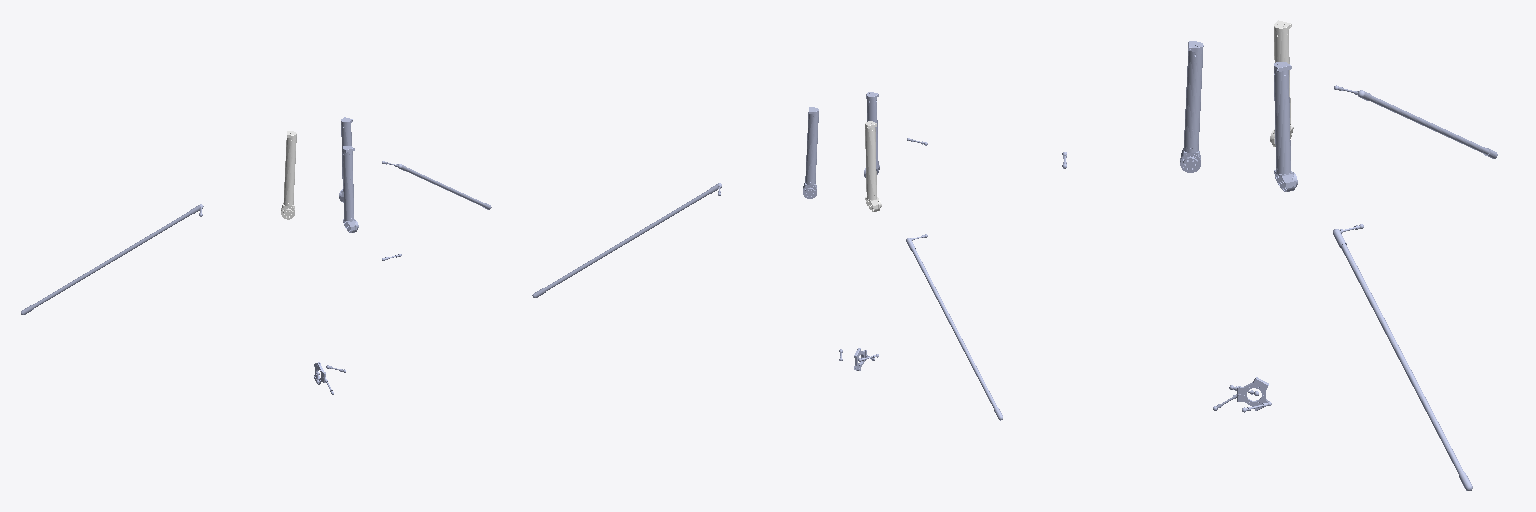
robot.urdf — deltax_descriptions:
<?xml version="1.0" encoding="utf-8"?>
<!-- This URDF was automatically created by SolidWorks to URDF Exporter! Originally created by Stephen Brawner ([email redacted]) 
     Commit Version: 1.6.0-1-g15f4949  Build Version: 1.6.7594.29634
     For more information. please see http://wiki.ros.org/sw_urdf_exporter -->
<robot name="deltax_descriptions">

<!-- Serial Chain -->

  <link name="base_link">

    <inertial>
      <origin xyz="0 0 0" rpy="0 0 0" />
      <mass value="4.116" />
      <inertia ixx="0.019013" ixy="-3.1198E-06" ixz="6.0397E-07" iyy="0.018987" iyz="-1.6736E-06" izz="0.033013" />
    </inertial>

    <visual>
      <origin xyz="0 0 0" rpy="0 0 0" />
      <geometry>
        <mesh filename="package://deltax_descriptions/meshes/base_link.STL" />
      </geometry>
      <material name="LightGrey">
        <color rgba="0.79216 0.81961 0.93333 1" />
      </material>
    </visual>

    <collision>
      <origin xyz="0 0 0" rpy="0 0 0" />
      <geometry>
        <mesh filename="package://deltax_descriptions/meshes/base_link.STL" />
      </geometry>
    </collision>

  </link>

  <link name="rf1_Link">

    <inertial>
      <origin xyz="-0.000180025755014773 -0.095698641603588 -0.00334460441190246" rpy="0 0 0" />
      <mass value="0.105839941889362" />
      <inertia ixx="0.000251568598676522" ixy="-1.3190478298987E-07" ixz="-1.76570125670921E-11" iyy="2.49430023061273E-05" iyz="9.97256647574034E-07" izz="0.000257239396139277" />
    </inertial>

    <visual>
      <origin xyz="0 0 0" rpy="0 0 0" />
      <geometry>
        <mesh filename="package://deltax_descriptions/meshes/rf1_Link.STL" />
      </geometry>
      <material name="LightGrey">
        <color rgba="0.792156862745098 0.819607843137255 0.933333333333333 1" />
      </material>
    </visual>

    <collision>
      <origin xyz="0 0 0" rpy="0 0 0" />
      <geometry>
        <mesh filename="package://deltax_descriptions/meshes/rf1_Link.STL" />
      </geometry>
    </collision>

  </link>

  <joint name="theta1" type="continuous">
    <origin xyz="0 -0.14772 -0.1908" rpy="-1.5708 -1.5279 1.5708" />
    <parent link="base_link" />
    <child link="rf1_Link" />
    <axis xyz="0 0 -1" />
  </joint>

  <link name="ball_top1_Link">
    <inertial>
      <origin xyz="0 0 4.96483227560846E-15" rpy="0 0 0" />
      <mass value="0.00403450389151663" />
      <inertia ixx="5.68434704387569E-07" ixy="0" ixz="-6.99509969560986E-23" iyy="5.68434704387569E-07" iyz="1.26866599360354E-22" izz="4.2954616111995E-08" />
    </inertial>

    <visual>
      <origin xyz="0 0 0" rpy="0 0 0" />
      <geometry>
        <mesh filename="package://deltax_descriptions/meshes/ball_top1_Link.STL" />
      </geometry>
      <material name="LightGrey">
        <color rgba="0.792156862745098 0.819607843137255 0.933333333333333 1" />
      </material>
    </visual>

    <collision>
      <origin xyz="0 0 0" rpy="0 0 0" />
      <geometry>
        <mesh filename="package://deltax_descriptions/meshes/ball_top1_Link.STL" />
      </geometry>
    </collision>

  </link>

  <joint name="ball_top1" type="continuous">
    <origin xyz="-0.0125000000000005 -0.291500000000001 0" rpy="0 0 2.51628974348087" />
    <parent link="rf1_Link" />
    <child link="ball_top1_Link" />
    <axis xyz="0 0 1" />
  </joint>

  <link name="re1_Link">

    <inertial>
      <origin xyz="-5.55111512312578E-16 -6.24500451351651E-17 -0.368" rpy="0 0 0" />
      <mass value="0.0573157505737431" />
      <inertia ixx="0.00168724685333462" ixy="-1.95026420120651E-23" ixz="-9.82558218814988E-19" iyy="0.00168724685333461" iyz="-2.73831028766095E-19" izz="2.40911741756134E-06" />
    </inertial>

    <visual>
      <origin xyz="0 0 0" rpy="0 0 0" />
      <geometry>
        <mesh filename="package://deltax_descriptions/meshes/re1_Link.STL" />
      </geometry>
      <material name="LightGrey">
        <color rgba="0.792156862745098 0.819607843137255 0.933333333333333 1" />
      </material>
    </visual>

    <collision>
      <origin xyz="0 0 0" rpy="0 0 0" />
      <geometry>
        <mesh filename="package://deltax_descriptions/meshes/re1_Link.STL" />
      </geometry>
    </collision>

  </link>

  <joint name="re1" type="continuous">
    <origin xyz="0 0 0.0333733971724094" rpy="-1.57079632679489 0 1.5707963267949" />
    <parent link="ball_top1_Link" />
    <child link="re1_Link" />
    <axis xyz="1 0 0" />
  </joint>

  <link name="ball_bot1_Link">
    <inertial>
      <origin xyz="0 -3.88578058618805E-16 -0.0333733971724045" rpy="0 0 0" />
      <mass value="0.00403450389151663" />
      <inertia ixx="5.68434704387569E-07" ixy="0" ixz="-1.50369652192614E-22" iyy="5.68434704387569E-07" iyz="-5.61340337985591E-23" izz="4.2954616111995E-08" />
    </inertial>

    <visual>
      <origin xyz="0 0 0" rpy="0 0 0" />
      <geometry>
        <mesh filename="package://deltax_descriptions/meshes/ball_bot1_Link.STL" />
      </geometry>
      <material name="LightGrey">
        <color rgba="0.792156862745098 0.819607843137255 0.933333333333333 1" />
      </material>
    </visual>

    <collision>
      <origin xyz="0 0 0" rpy="0 0 0" />
      <geometry>
        <mesh filename="package://deltax_descriptions/meshes/ball_bot1_Link.STL" />
      </geometry>
    </collision>

  </link>
  
  <joint name="re_ball" type="continuous">
    <origin xyz="0 0 -0.736" rpy="1.57079632679489 1.5707963267949 0" />
    <parent link="re1_Link" />
    <child link="ball_bot1_Link" />
    <axis xyz="0 1 0" />
  </joint>

  <link name="ball_moving_Link">

    <inertial>
      <origin xyz="0.0333733971724034 0.0346410161513765 -0.000395409279406289" rpy="0 0 0" />
      <mass value="0.024578598394115" />
      <inertia ixx="1.11301111565817E-05" ixy="-1.0553815217793E-21" ixz="2.98720633800108E-23" iyy="1.1130111156582E-05" iyz="-2.37814426108995E-21" izz="2.18824601689992E-05" />
    </inertial>

    <visual>
      <origin xyz="0 0 0" rpy="0 0 0" />
      <geometry>
        <mesh filename="package://deltax_descriptions/meshes/ball_moving_Link.STL" />
      </geometry>
      <material name="LightGrey">
        <color rgba="0.792156862745098 0.819607843137255 0.933333333333333 1" />
      </material>
    </visual>

    <collision>
      <origin xyz="0 0 0" rpy="0 0 0" />
      <geometry>
        <mesh filename="package://deltax_descriptions/meshes/ball_moving_Link.STL" />
      </geometry>
    </collision>

  </link>

  <joint name="ball_moving" type="continuous">
    <origin xyz="0 0 0" rpy="2.5591 1.5708 0" />
    <parent link="ball_bot1_Link" />
    <child link="ball_moving_Link" />
    <axis xyz="-1 0 0" />
  </joint>

<!-- New Links/Joints -->

  <link name="3_dof_frame">
  </link>

  <joint name="3_dof_frame_joint" type="fixed">
    <origin xyz="0.0333733971724094 0.034641 0" rpy="0 0 0" />
    <parent link="ball_moving_Link" />
    <child link="3_dof_frame" />
  </joint>

<!-- Fixed Links on Moving Platform -->

  <link name="ball_bot2_Link">

    <inertial>
      <origin xyz="-1.33226762955019E-15 1.0547118733939E-15 -0.0133133014137978" rpy="0 0 0" />
      <mass value="0.00403450389151663" />
      <inertia ixx="5.68434704387569E-07" ixy="5.29395592033938E-23" ixz="-1.75090631434492E-22" iyy="5.68434704387569E-07" iyz="-7.85728408212561E-23" izz="4.2954616111995E-08" />
    </inertial>

    <visual>
      <origin xyz="0 0 0" rpy="0 0 0" />
      <geometry>
        <mesh filename="package://deltax_descriptions/meshes/ball_bot2_Link.STL" />
      </geometry>
      <material name="LightGrey">
        <color rgba="0.792156862745098 0.819607843137255 0.933333333333333 1" />
      </material>
    </visual>

    <collision>
      <origin xyz="0 0 0" rpy="0 0 0" />
      <geometry>
        <mesh filename="package://deltax_descriptions/meshes/ball_bot2_Link.STL" />
      </geometry>
    </collision>

  </link>

  <joint name="ball_bot2" type="fixed">
    <origin xyz="0.07003 0.040432 0" rpy="-1.5708 0.98835 -2.618" />
    <parent link="ball_moving_Link" />
    <child link="ball_bot2_Link" />
    <axis xyz="0 0 0" />
  </joint>

  <link name="ball_bot3_Link">

    <inertial>
      <origin xyz="-4.44089209850063E-16 1.4432899320127E-15 0.0465710472243423" rpy="0 0 0" />
      <mass value="0.00403450389151663" />
      <inertia ixx="5.68434704387569E-07" ixy="-2.64697796016969E-23" ixz="3.99022495151383E-22" iyy="5.68434704387569E-07" iyz="-1.1213966056023E-22" izz="4.2954616111995E-08" />
    </inertial>

    <visual>
      <origin xyz="0 0 0" rpy="0 0 0" />
      <geometry>
        <mesh filename="package://deltax_descriptions/meshes/ball_bot3_Link.STL" />
      </geometry>
      <material name="LightGrey">
        <color rgba="0.792156862745098 0.819607843137255 0.933333333333333 1" />
      </material>
    </visual>

    <collision>
      <origin xyz="0 0 0" rpy="0 0 0" />
      <geometry>
        <mesh filename="package://deltax_descriptions/meshes/ball_bot3_Link.STL" />
      </geometry>
    </collision>

  </link>

  <joint name="ball_bot3" type="fixed">
    <origin xyz="-0.019912 0.01163 0" rpy="1.5708 -0.98835 2.618" />
    <parent link="ball_moving_Link" />
    <child link="ball_bot3_Link" />
    <axis xyz="0 0 0" />
  </joint>

<!-- Driven Parrallel Links -->

  <link name="re2_Link">

    <inertial>
      <origin xyz="-3.88578058618805E-16 -9.71445146547012E-17 -0.368" rpy="0 0 0" />
      <mass value="0.057315750573743" />
      <inertia ixx="0.00168724685333462" ixy="-8.51517412309534E-23" ixz="-1.17981101640683E-18" iyy="0.00168724685333462" iyz="-3.03320016728441E-19" izz="2.4091174175618E-06" />
    </inertial>

    <visual>
      <origin xyz="0 0 0" rpy="0 0 0" />
      <geometry>
        <mesh filename="package://deltax_descriptions/meshes/re2_Link.STL" />
      </geometry>
      <material name="LightGrey">
        <color rgba="0.792156862745098 0.819607843137255 0.933333333333333 1" />
      </material>
    </visual>

    <collision>
      <origin xyz="0 0 0" rpy="0 0 0" />
      <geometry>
        <mesh filename="package://deltax_descriptions/meshes/re2_Link.STL" />
      </geometry>
    </collision>

  </link>

  <joint name="re2" type="continuous">
    <origin xyz="0 0 -0.0333733971723995" rpy="-1.57079632679489 0 1.5707963267949" />
    <parent link="ball_top1_Link" />
    <child link="re2_Link" />
    <axis xyz="1 0 0" />
  </joint>

  <link name="rf2_Link">

    <inertial>
      <origin xyz="-0.000180009871745185 -0.105698167078432 -0.00334457386232478" rpy="0 0 0" />
      <mass value="0.105840527396936" />
      <inertia ixx="0.000251568641704869" ixy="-1.31915124400507E-07" ixz="-2.48118486774048E-11" iyy="2.49431921936754E-05" iyz="9.97258259821399E-07" izz="0.000257239597683217" />
    </inertial>

    <visual>
      <origin xyz="0 0 0" rpy="0 0 0" />
      <geometry>
        <mesh filename="package://deltax_descriptions/meshes/rf2_Link.STL" />
      </geometry>
      <material name="LightGrey">
        <color rgba="0.792156862745098 0.819607843137255 0.933333333333333 1" />
      </material>
    </visual>

    <collision>
      <origin xyz="0 0 0" rpy="0 0 0" />
      <geometry>
        <mesh filename="package://deltax_descriptions/meshes/rf2_Link.STL" />
      </geometry>
    </collision>

  </link>

  <joint name="theta2" type="continuous">
    <origin xyz="0.11928 0.068867 -0.19123" rpy="-1.5708 -1.5279 -2.618" />
    <parent link="base_link" />
    <child link="rf2_Link" />
    <axis xyz="0 0 -1" />
  </joint>

  <link name="ball_top2_Link">

    <inertial>
      <origin xyz="0 5.55111512312578E-17 -2.22044604925031E-16" rpy="0 0 0" />
      <mass value="0.00403450389151663" />
      <inertia ixx="5.68434704387569E-07" ixy="-5.29395592033938E-23" ixz="2.25005090297828E-22" iyy="5.68434704387569E-07" iyz="4.31443928495655E-22" izz="4.2954616111995E-08" />
    </inertial>

    <visual>
      <origin xyz="0 0 0" rpy="0 0 0" />
      <geometry>
        <mesh filename="package://deltax_descriptions/meshes/ball_top2_Link.STL" />
      </geometry>
      <material name="LightGrey">
        <color rgba="0.792156862745098 0.819607843137255 0.933333333333333 1" />
      </material>
    </visual>

    <collision>
      <origin xyz="0 0 0" rpy="0 0 0" />
      <geometry>
        <mesh filename="package://deltax_descriptions/meshes/ball_top2_Link.STL" />
      </geometry>
    </collision>

  </link>

  <joint name="ball_top2" type="continuous">
    <origin xyz="-0.012500000000001 -0.3015 0" rpy="0 0 2.51628974348086" />
    <parent link="rf2_Link" />
    <child link="ball_top2_Link" />
    <axis xyz="0 0 1" />
  </joint>

  <link name="re3_Link">

    <inertial>
      <origin xyz="6.66133814775094E-16 -1.13797860024079E-15 -0.368000000000001" rpy="0 0 0" />
      <mass value="0.057315750573743" />
      <inertia ixx="0.00168724685333462" ixy="6.92705888295819E-20" ixz="2.80389081364855E-18" iyy="0.00168724685333462" iyz="-5.12751653114693E-18" izz="2.40911741756149E-06" />
    </inertial>

    <visual>
      <origin xyz="0 0 0" rpy="0 0 0" />
      <geometry>
        <mesh filename="package://deltax_descriptions/meshes/re3_Link.STL" />
      </geometry>
      <material name="LightGrey">
        <color rgba="0.792156862745098 0.819607843137255 0.933333333333333 1" />
      </material>
    </visual>

    <collision>
      <origin xyz="0 0 0" rpy="0 0 0" />
      <geometry>
        <mesh filename="package://deltax_descriptions/meshes/re3_Link.STL" />
      </geometry>
    </collision>

  </link>

  <joint name="re3" type="continuous">
    <origin xyz="0 0 0.0333733971724042" rpy="-1.5707963267949 0 1.5707963267949" />
    <parent link="ball_top2_Link" />
    <child link="re3_Link" />
    <axis xyz="1 0 0" />
  </joint>

  <link name="re4_Link">

    <inertial>
      <origin xyz="6.66133814775094E-16 -2.91433543964104E-16 -0.368" rpy="0 0 0" />
      <mass value="0.057315750573743" />
      <inertia ixx="0.00168724685333461" ixy="-3.79244537653438E-20" ixz="1.9421406689357E-18" iyy="0.00168724685333461" iyz="-7.66827937291266E-19" izz="2.4091174175619E-06" />
    </inertial>

    <visual>
      <origin xyz="0 0 0" rpy="0 0 0" />
      <geometry>
        <mesh filename="package://deltax_descriptions/meshes/re4_Link.STL" />
      </geometry>
      <material name="LightGrey">
        <color rgba="0.792156862745098 0.819607843137255 0.933333333333333 1" />
      </material>
    </visual>

    <collision>
      <origin xyz="0 0 0" rpy="0 0 0" />
      <geometry>
        <mesh filename="package://deltax_descriptions/meshes/re4_Link.STL" />
      </geometry>
    </collision>

  </link>

  <joint name="re4" type="continuous">
    <origin xyz="0 0 -0.0333733971724047" rpy="-1.5707963267949 0 1.5707963267949" />
    <parent link="ball_top2_Link" />
    <child link="re4_Link" />
    <axis xyz="1 0 0" />
  </joint>

  <link name="rf3_Link">

    <inertial>
      <origin xyz="0 0 0" rpy="0 0 0" />
      <mass value="0" />
      <inertia ixx="0" ixy="0" ixz="0" iyy="0" iyz="0" izz="0" />
    </inertial>

    <visual>
      <origin xyz="0 0 0" rpy="0 0 0" />
      <geometry>
        <mesh filename="package://deltax_descriptions/meshes/rf3_Link.STL" />
      </geometry>
      <material name="LightGrey">
        <color rgba="1 1 1 1" />
      </material>
    </visual>

    <collision>
      <origin xyz="0 0 0" rpy="0 0 0" />
      <geometry>
        <mesh filename="package://deltax_descriptions/meshes/rf3_Link.STL" />
      </geometry>
    </collision>

  </link>

  <joint name="theta3" type="continuous">
    <origin xyz="-0.119280710091501 0.068866750080458 -0.191228422747961" rpy="-1.5707963267949 -1.52794093527818 -0.523598775598293" />
    <parent link="base_link" />
    <child link="rf3_Link" />
    <axis xyz="0 0 -1" />
  </joint>

  <link name="ball_top3_Link">

    <inertial>
      <origin xyz="-2.77555756156289E-17 1.11022302462516E-16 -1.66533453693773E-16" rpy="0 0 0" />
      <mass value="0.00403450389151663" />
      <inertia ixx="5.68434704387569E-07" ixy="-1.05879118406788E-22" ixz="1.31270317227593E-21" iyy="5.68434704387569E-07" iyz="-3.02898626422217E-22" izz="4.2954616111995E-08" />
    </inertial>

    <visual>
      <origin xyz="0 0 0" rpy="0 0 0" />
      <geometry>
        <mesh filename="package://deltax_descriptions/meshes/ball_top3_Link.STL" />
      </geometry>
      <material name="LightGrey">
        <color rgba="0.792156862745098 0.819607843137255 0.933333333333333 1" />
      </material>
    </visual>

    <collision>
      <origin xyz="0 0 0" rpy="0 0 0" />
      <geometry>
        <mesh filename="package://deltax_descriptions/meshes/ball_top3_Link.STL" />
      </geometry>
    </collision>

  </link>

  <joint name="ball_top3" type="continuous">
    <origin xyz="-0.0125000000000005 -0.3015 0" rpy="0 0 2.51628974348087" />
    <parent link="rf3_Link" />
    <child link="ball_top3_Link" />
    <axis xyz="0 0 1" />
  </joint>

  <link name="re5_Link">

    <inertial>
      <origin xyz="-4.44089209850063E-16 3.05311331771918E-16 -0.368" rpy="0 0 0" />
      <mass value="0.057315750573743" />
      <inertia ixx="0.00168724685333462" ixy="-1.36090828351888E-20" ixz="-1.53556485425364E-18" iyy="0.00168724685333462" iyz="1.85158360849357E-18" izz="2.40911741756136E-06" />
    </inertial>

    <visual>
      <origin xyz="0 0 0" rpy="0 0 0" />
      <geometry>
        <mesh filename="package://deltax_descriptions/meshes/re5_Link.STL" />
      </geometry>
      <material name="LightGrey">
        <color rgba="0.792156862745098 0.819607843137255 0.933333333333333 1" />
      </material>
    </visual>

    <collision>
      <origin xyz="0 0 0" rpy="0 0 0" />
      <geometry>
        <mesh filename="package://deltax_descriptions/meshes/re5_Link.STL" />
      </geometry>
    </collision>

  </link>

  <joint name="re5" type="continuous">
    <origin xyz="0 0 0.0333733971724043" rpy="-1.5707963267949 0 1.5707963267949" />
    <parent link="ball_top3_Link" />
    <child link="re5_Link" />
    <axis xyz="1 0 0" />
  </joint>

  <link name="re6_Link">

    <inertial>
      <origin xyz="-2.22044604925031E-16 2.4980018054066E-16 -0.368" rpy="0 0 0" />
      <mass value="0.057315750573743" />
      <inertia ixx="0.00168724685333462" ixy="2.70673505260576E-20" ixz="-1.72614726738586E-18" iyy="0.00168724685333462" iyz="1.20806046488522E-18" izz="2.40911741756203E-06" />
    </inertial>

    <visual>
      <origin xyz="0 0 0" rpy="0 0 0" />
      <geometry>
        <mesh filename="package://deltax_descriptions/meshes/re6_Link.STL" />
      </geometry>
      <material name="LightGrey">
        <color rgba="0.792156862745098 0.819607843137255 0.933333333333333 1" />
      </material>
    </visual>

    <collision>
      <origin xyz="0 0 0" rpy="0 0 0" />
      <geometry>
        <mesh filename="package://deltax_descriptions/meshes/re6_Link.STL" />
      </geometry>
    </collision>

  </link>

  <joint name="re6" type="continuous">
    <origin xyz="0 0 -0.0333733971724047" rpy="-1.5707963267949 0 1.5707963267949" />
    <parent link="ball_top3_Link" />
    <child link="re6_Link" />
    <axis xyz="1 0 0" />
  </joint>

</robot>

--- Facts derived from the render (not from the file) ---
Views: 3 orthographic renders of the robot side by side, from view 1: azimuth 30°, elevation 25°; view 2: azimuth 150°, elevation 25°; view 3: azimuth 270°, elevation 25°.
Model deltax_descriptions with 18 links and 17 joints (14 continuous, 3 fixed), rooted at base_link, posed every joint at zero.
Visible links, largest first — view 1: rf3_Link, rf1_Link, re5_Link; view 2: rf2_Link, rf3_Link, re3_Link, re5_Link; view 3: rf1_Link, rf2_Link, re3_Link, re5_Link, rf3_Link.
Boxes of the visible links, bbox=[...] form: rf3_Link: bbox=[281, 131, 296, 219]; rf1_Link: bbox=[343, 146, 358, 232]; re5_Link: bbox=[21, 204, 203, 314]; rf2_Link: bbox=[803, 107, 818, 198]; rf3_Link: bbox=[865, 121, 881, 211]; re3_Link: bbox=[532, 183, 721, 297]; re5_Link: bbox=[906, 238, 1002, 420]; rf1_Link: bbox=[1180, 41, 1203, 172]; rf2_Link: bbox=[1274, 62, 1297, 191]; re3_Link: bbox=[1333, 229, 1472, 490]; re5_Link: bbox=[1358, 90, 1497, 158]; rf3_Link: bbox=[1270, 20, 1293, 146].
Bounding box of the posed robot: 1.84 × 1.01 × 0.9547 m (x, y, z).
12 mesh visuals loaded from 17 distinct referenced files (12 binary STL); not drawn: 5 (reference not matched to a file when rendering).
